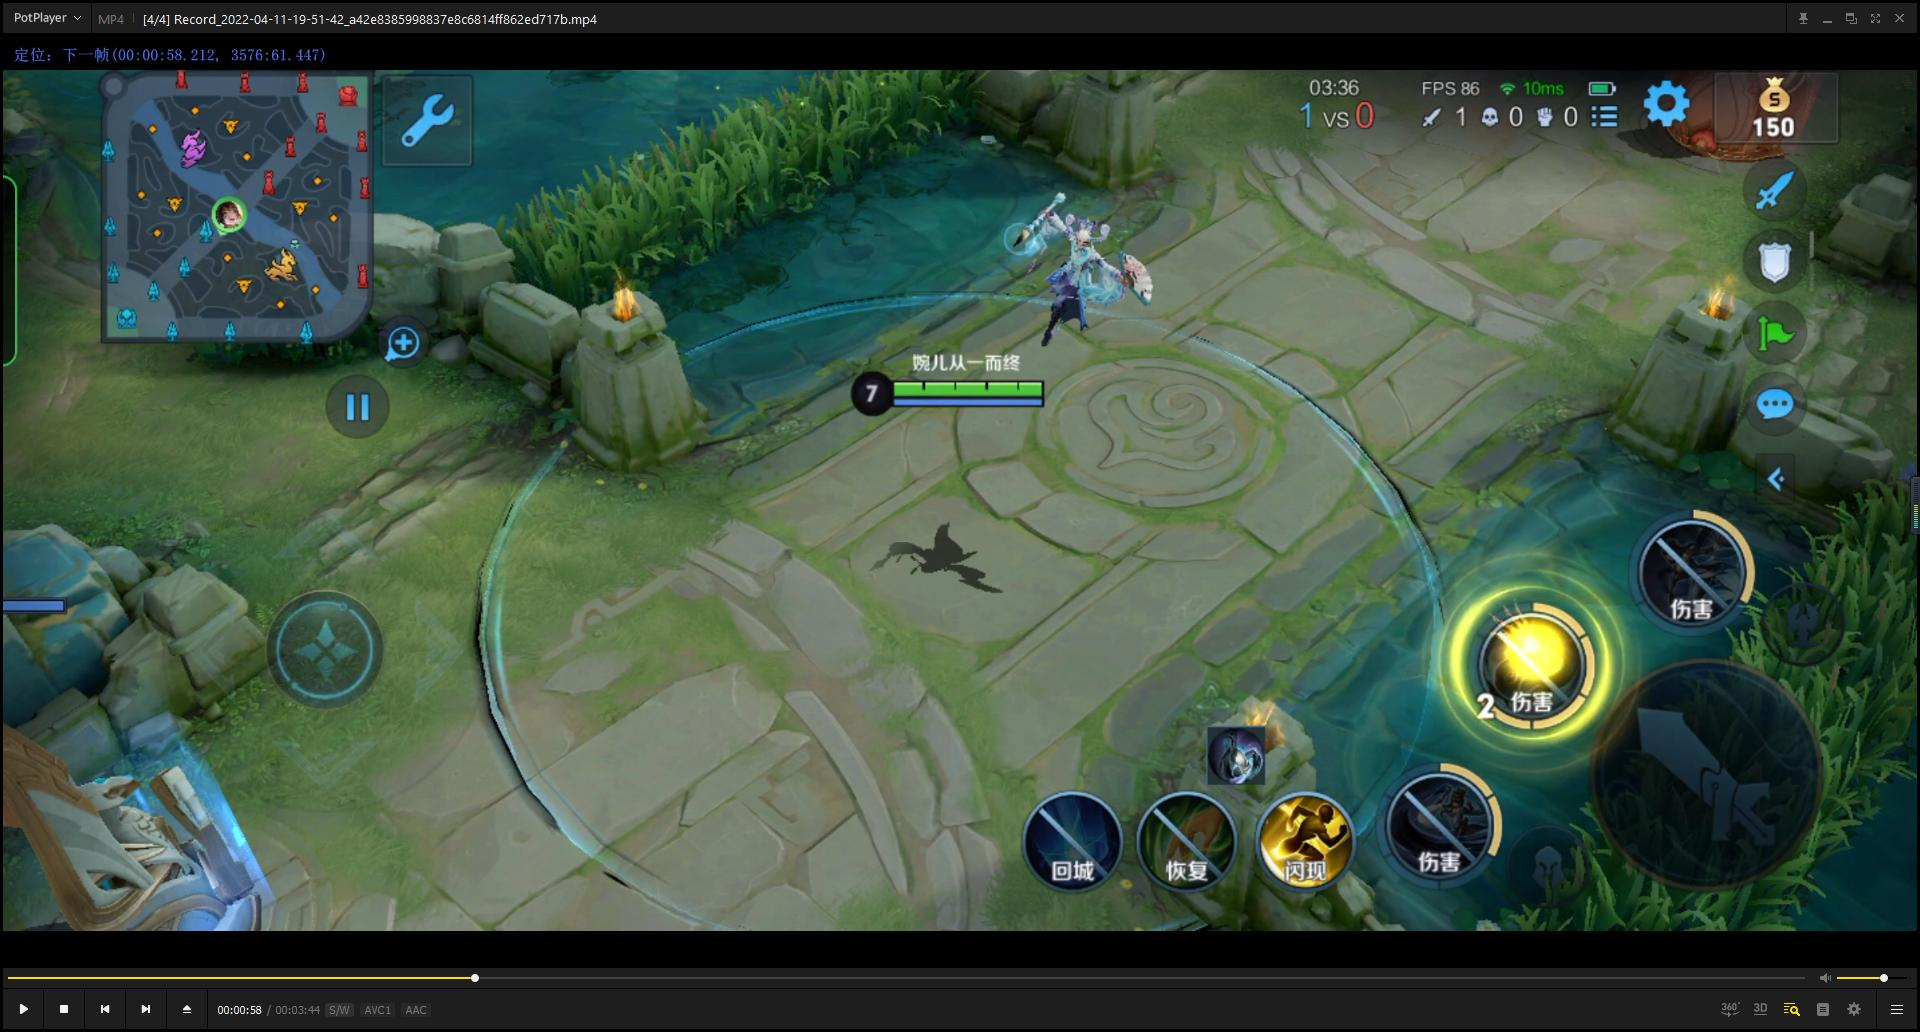Hero: (846, 194, 1169, 587)
Tower: (4, 658, 295, 932), (1658, 69, 1827, 172)
